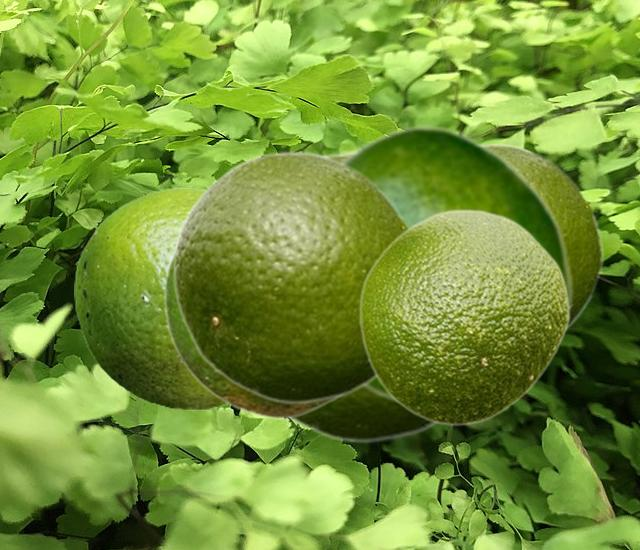calamansi: (341, 123, 574, 406), (172, 148, 409, 404), (358, 208, 569, 426), (287, 148, 440, 443), (74, 186, 226, 409), (163, 243, 336, 419), (485, 141, 603, 329)
